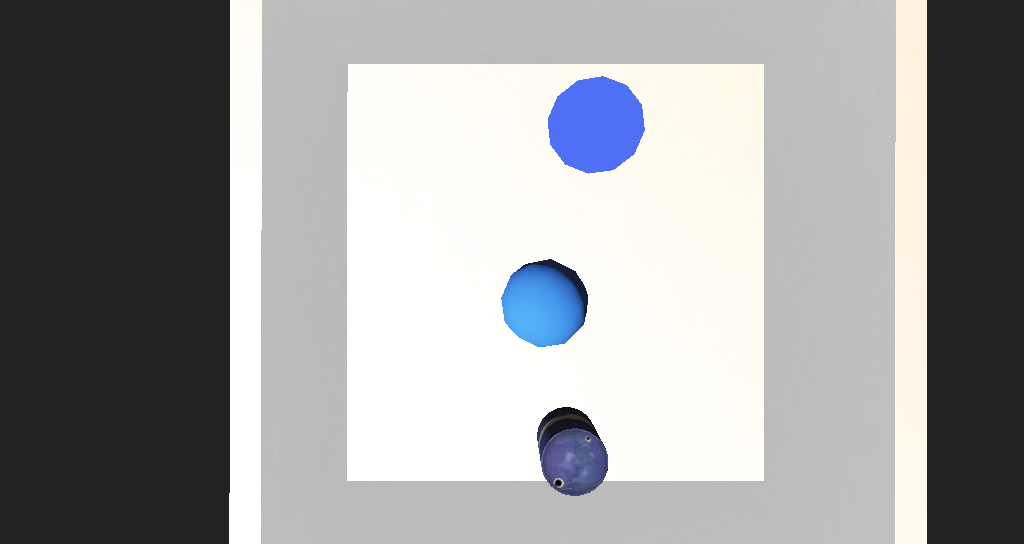cone: (495, 336, 542, 379)
cylinder: (492, 167, 573, 224)
sphere: (468, 265, 529, 308)
